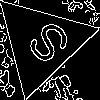S: (16, 17, 74, 74)
